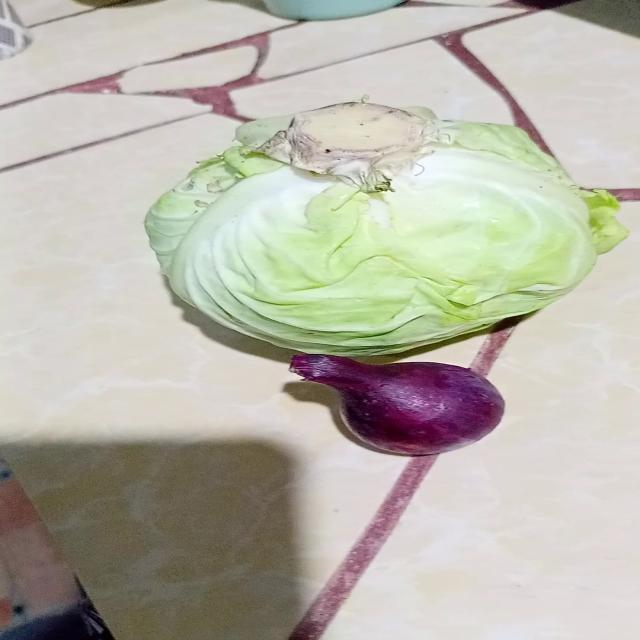cabbage: (143, 100, 626, 358)
onion: (283, 354, 507, 458)
